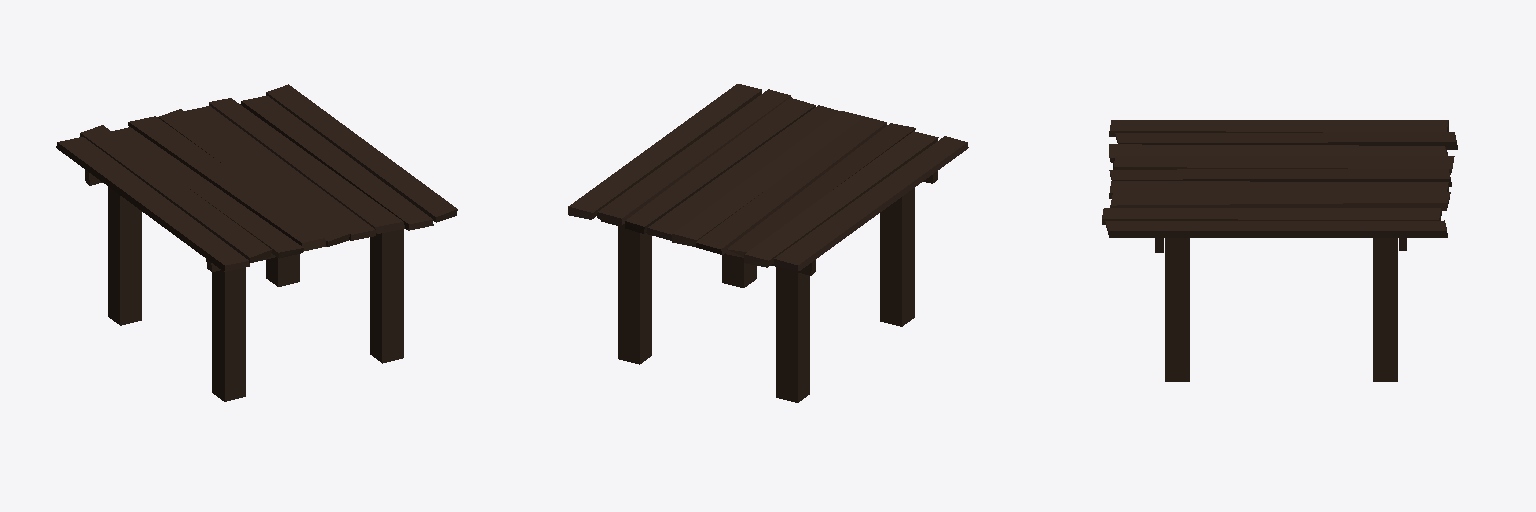
File: table.obj
3 renders of one model, left to right at view 1: azimuth 30°, elevation 25°; view 2: azimuth 150°, elevation 25°; view 3: azimuth 270°, elevation 25°, orthographic.
Visible parts, largest first — view 1: SM_Mining_Table; view 2: SM_Mining_Table; view 3: SM_Mining_Table.
Boxes of the visible parts, <box> form: SM_Mining_Table: <box>56,84,457,401</box>; SM_Mining_Table: <box>568,84,968,402</box>; SM_Mining_Table: <box>1102,120,1457,381</box>.
Size of the model in its own units: 1.13 by 0.7613 by 1.5.